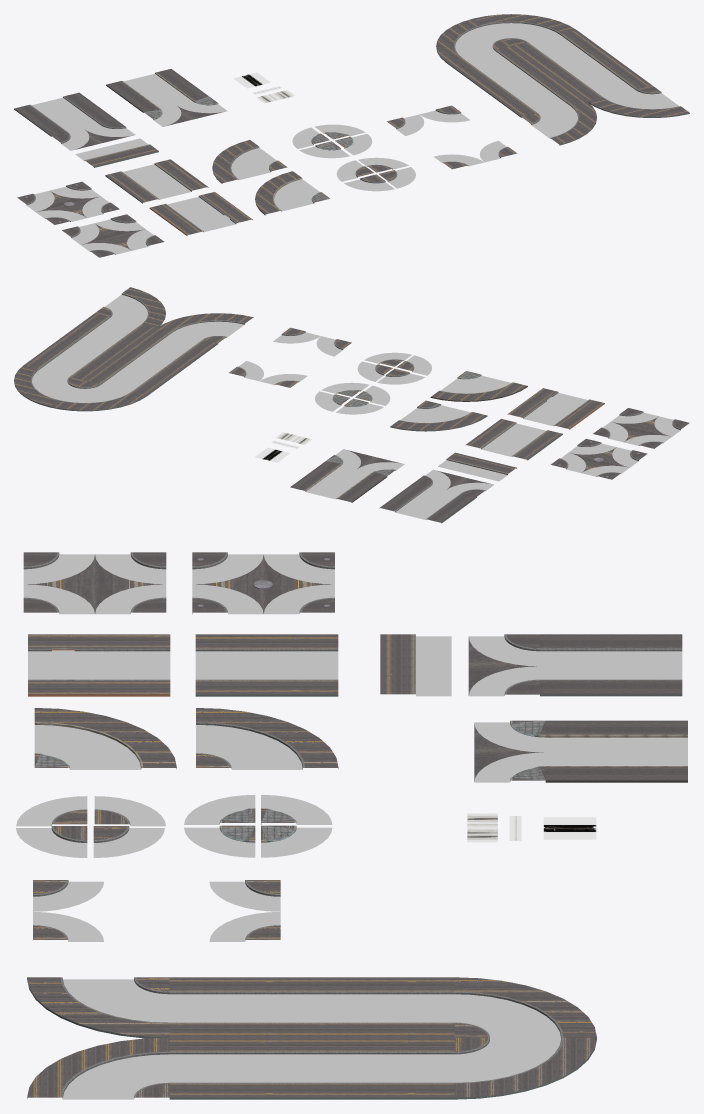
Rendered from Roads.fbx.
3 renders of one model, top to bottom at view 1: azimuth 30°, elevation 25°; view 2: azimuth 150°, elevation 25°; view 3: azimuth 270°, elevation 25°, orthographic. The views are drawn at different scales.
Visible parts, largest first — view 1: Plane_008, Plane_019, Plane_017, Plane_033, Plane_031, Plane_013, Plane_007, Plane_032, Plane_034, Plane_005, Plane_030, Plane_035 (+15 smaller); view 2: Plane_008, Plane_019, Plane_017, Plane_033, Plane_031, Plane_013, Plane_007, Plane_032, Plane_034, Plane_005, Plane_029, Plane_024 (+15 smaller); view 3: Plane_008, Plane_019, Plane_017, Plane_032, Plane_013, Plane_034, Plane_007, Plane_033, Plane_031, Plane_005, Plane_029, Plane_030 (+17 smaller).
Boxes of the visible parts, left/top/right/bottom form: Plane_008: left=14, top=92, right=135, bottom=150; Plane_019: left=106, top=69, right=227, bottom=126; Plane_017: left=105, top=159, right=208, bottom=203; Plane_033: left=484, top=73, right=586, bottom=117; Plane_031: left=446, top=46, right=548, bottom=90; Plane_013: left=149, top=192, right=252, bottom=235; Plane_007: left=62, top=214, right=164, bottom=257; Plane_032: left=512, top=30, right=613, bottom=73; Plane_034: left=549, top=57, right=651, bottom=100; Plane_005: left=17, top=181, right=119, bottom=224; Plane_030: left=474, top=14, right=576, bottom=45; Plane_035: left=587, top=85, right=689, bottom=117; Plane_008: left=379, top=469, right=494, bottom=523; Plane_019: left=290, top=449, right=404, bottom=502; Plane_017: left=465, top=418, right=562, bottom=460; Plane_033: left=121, top=328, right=218, bottom=369; Plane_031: left=85, top=354, right=182, bottom=395; Plane_013: left=507, top=388, right=604, bottom=429; Plane_007: left=593, top=408, right=689, bottom=448; Plane_032: left=24, top=339, right=120, bottom=380; Plane_034: left=59, top=313, right=155, bottom=354; Plane_005: left=551, top=438, right=647, bottom=479; Plane_029: left=49, top=380, right=146, bottom=411; Plane_024: left=430, top=371, right=527, bottom=401; Plane_008: left=468, top=634, right=682, bottom=696; Plane_019: left=474, top=720, right=687, bottom=782; Plane_017: left=195, top=634, right=338, bottom=696; Plane_032: left=312, top=1037, right=454, bottom=1099; Plane_013: left=28, top=634, right=170, bottom=696; Plane_034: left=169, top=1037, right=311, bottom=1099; Plane_007: left=23, top=552, right=166, bottom=614; Plane_033: left=169, top=977, right=311, bottom=1037; Plane_031: left=312, top=977, right=454, bottom=1037; Plane_005: left=192, top=552, right=334, bottom=614; Plane_029: left=454, top=977, right=596, bottom=1039; Plane_030: left=454, top=1037, right=596, bottom=1099.
Bounding box in the file's own units: 217 × 0.5811 × 113.
